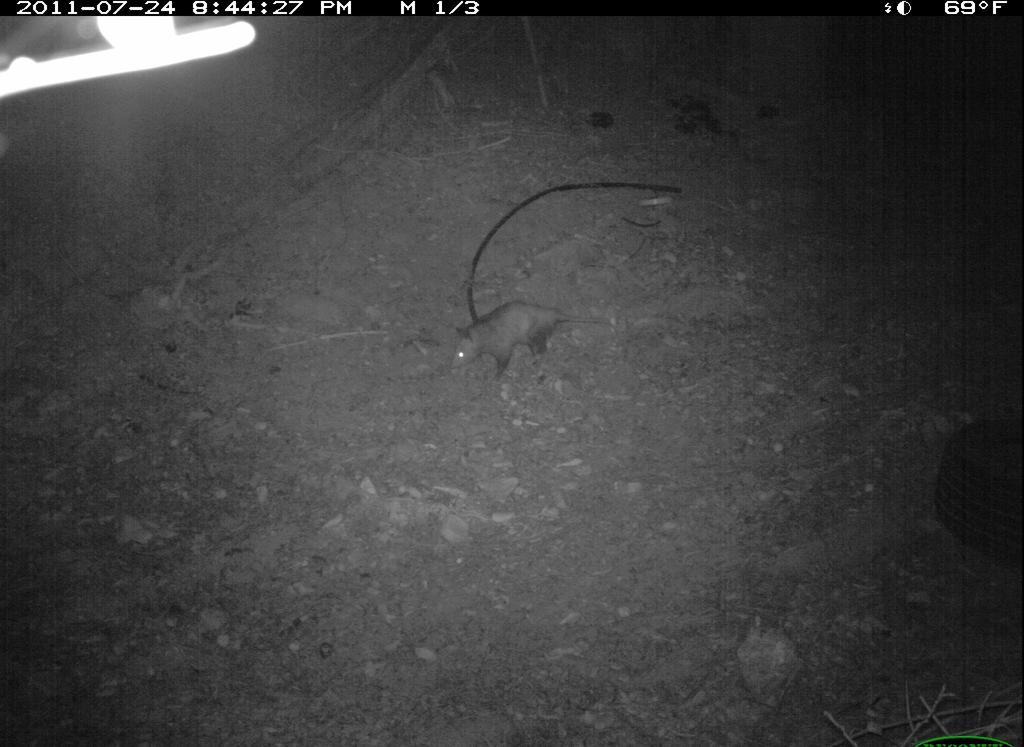opossum: (446, 296, 623, 388)
